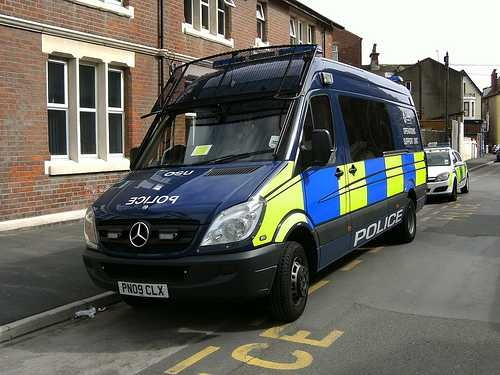Police Van: (81, 40, 420, 321)
